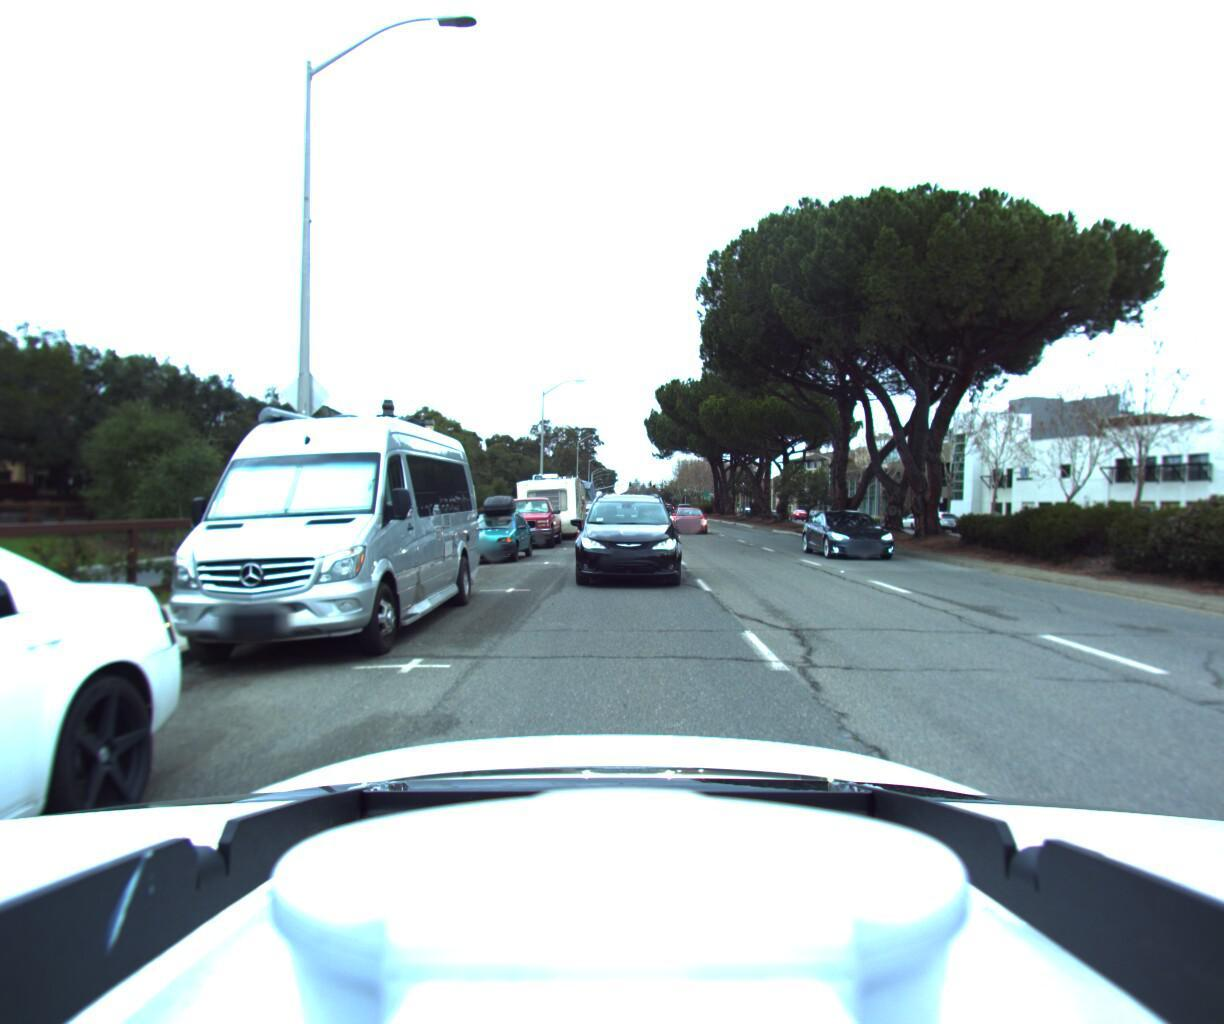car: (129, 382, 486, 660), (0, 522, 193, 1024), (572, 487, 689, 594), (808, 503, 917, 558), (453, 490, 534, 562), (491, 493, 559, 549), (672, 504, 713, 534), (917, 510, 959, 532)
other_vehicle: (509, 469, 583, 541), (529, 479, 586, 533), (552, 480, 597, 525)
